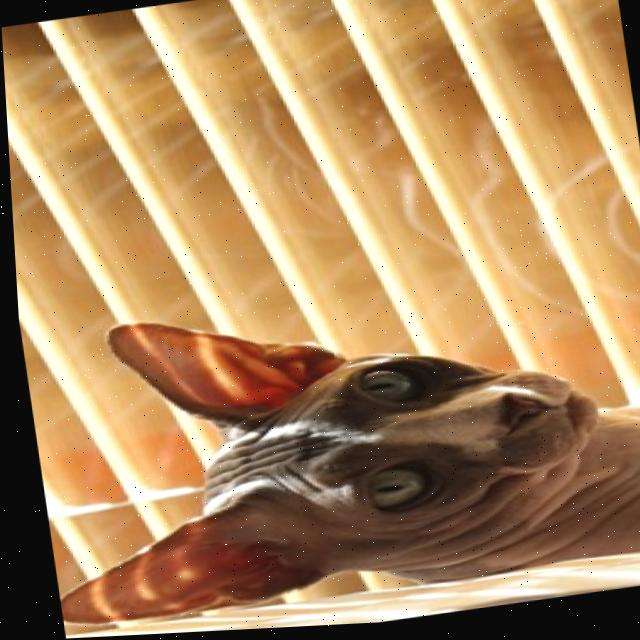Sphynx: (13, 253, 640, 637)
